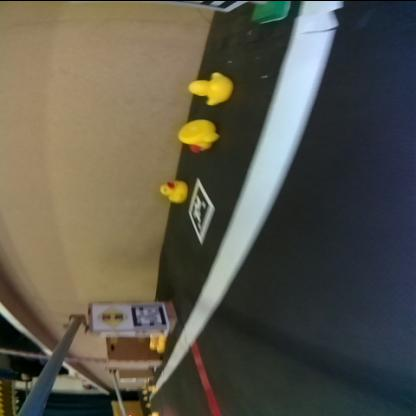Duckie: (188, 72, 232, 102), (179, 119, 217, 148), (158, 179, 186, 201)
QR code: (187, 178, 214, 242), (132, 302, 166, 326)
Signal sign: (96, 303, 127, 326)
